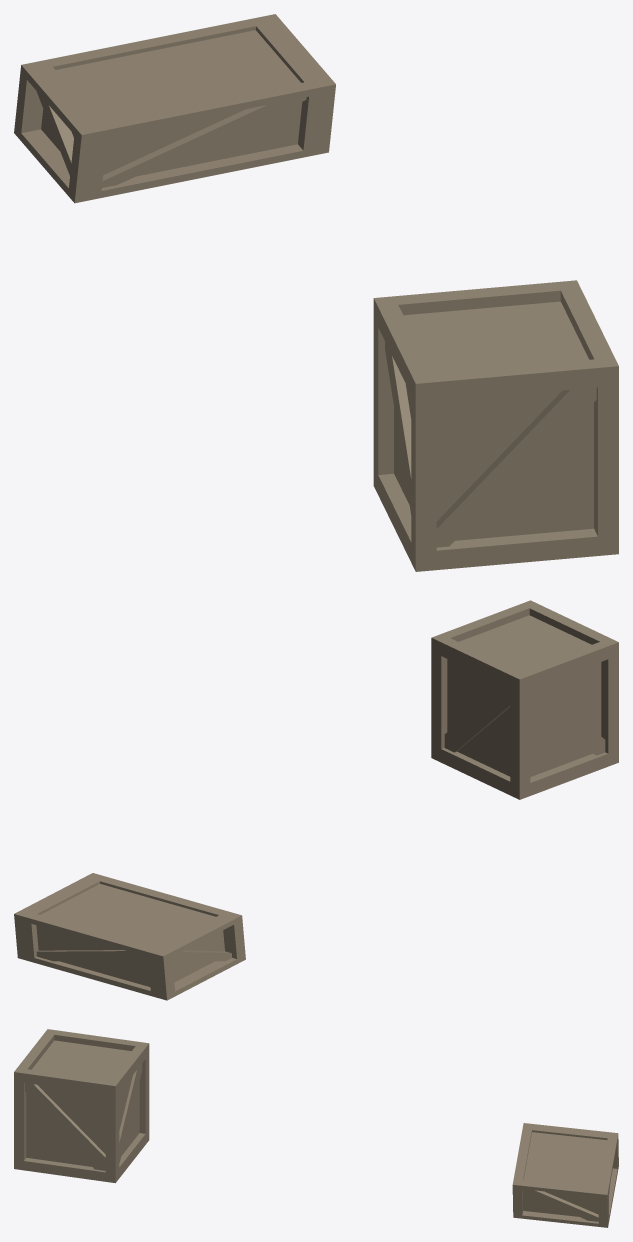
Rendered from crates.fbx.
The picture shows the model from 3 angles, top to bottom: view 1: azimuth 30°, elevation 25°; view 2: azimuth 150°, elevation 25°; view 3: azimuth 270°, elevation 25°; orthographic projection. The views are drawn at different scales.
Parts seen in each view (by area): view 1: crate2, crate1; view 2: crate2, crate1; view 3: crate2, crate1.
Boxes of the visible parts, x1,y1,x2,y2 form: crate2: [373, 280, 618, 571]; crate1: [14, 14, 335, 203]; crate2: [431, 600, 618, 799]; crate1: [14, 873, 245, 1000]; crate2: [14, 1029, 149, 1183]; crate1: [512, 1123, 618, 1227].
Bounding box in the file's own units: 532 × 243 × 1343.
